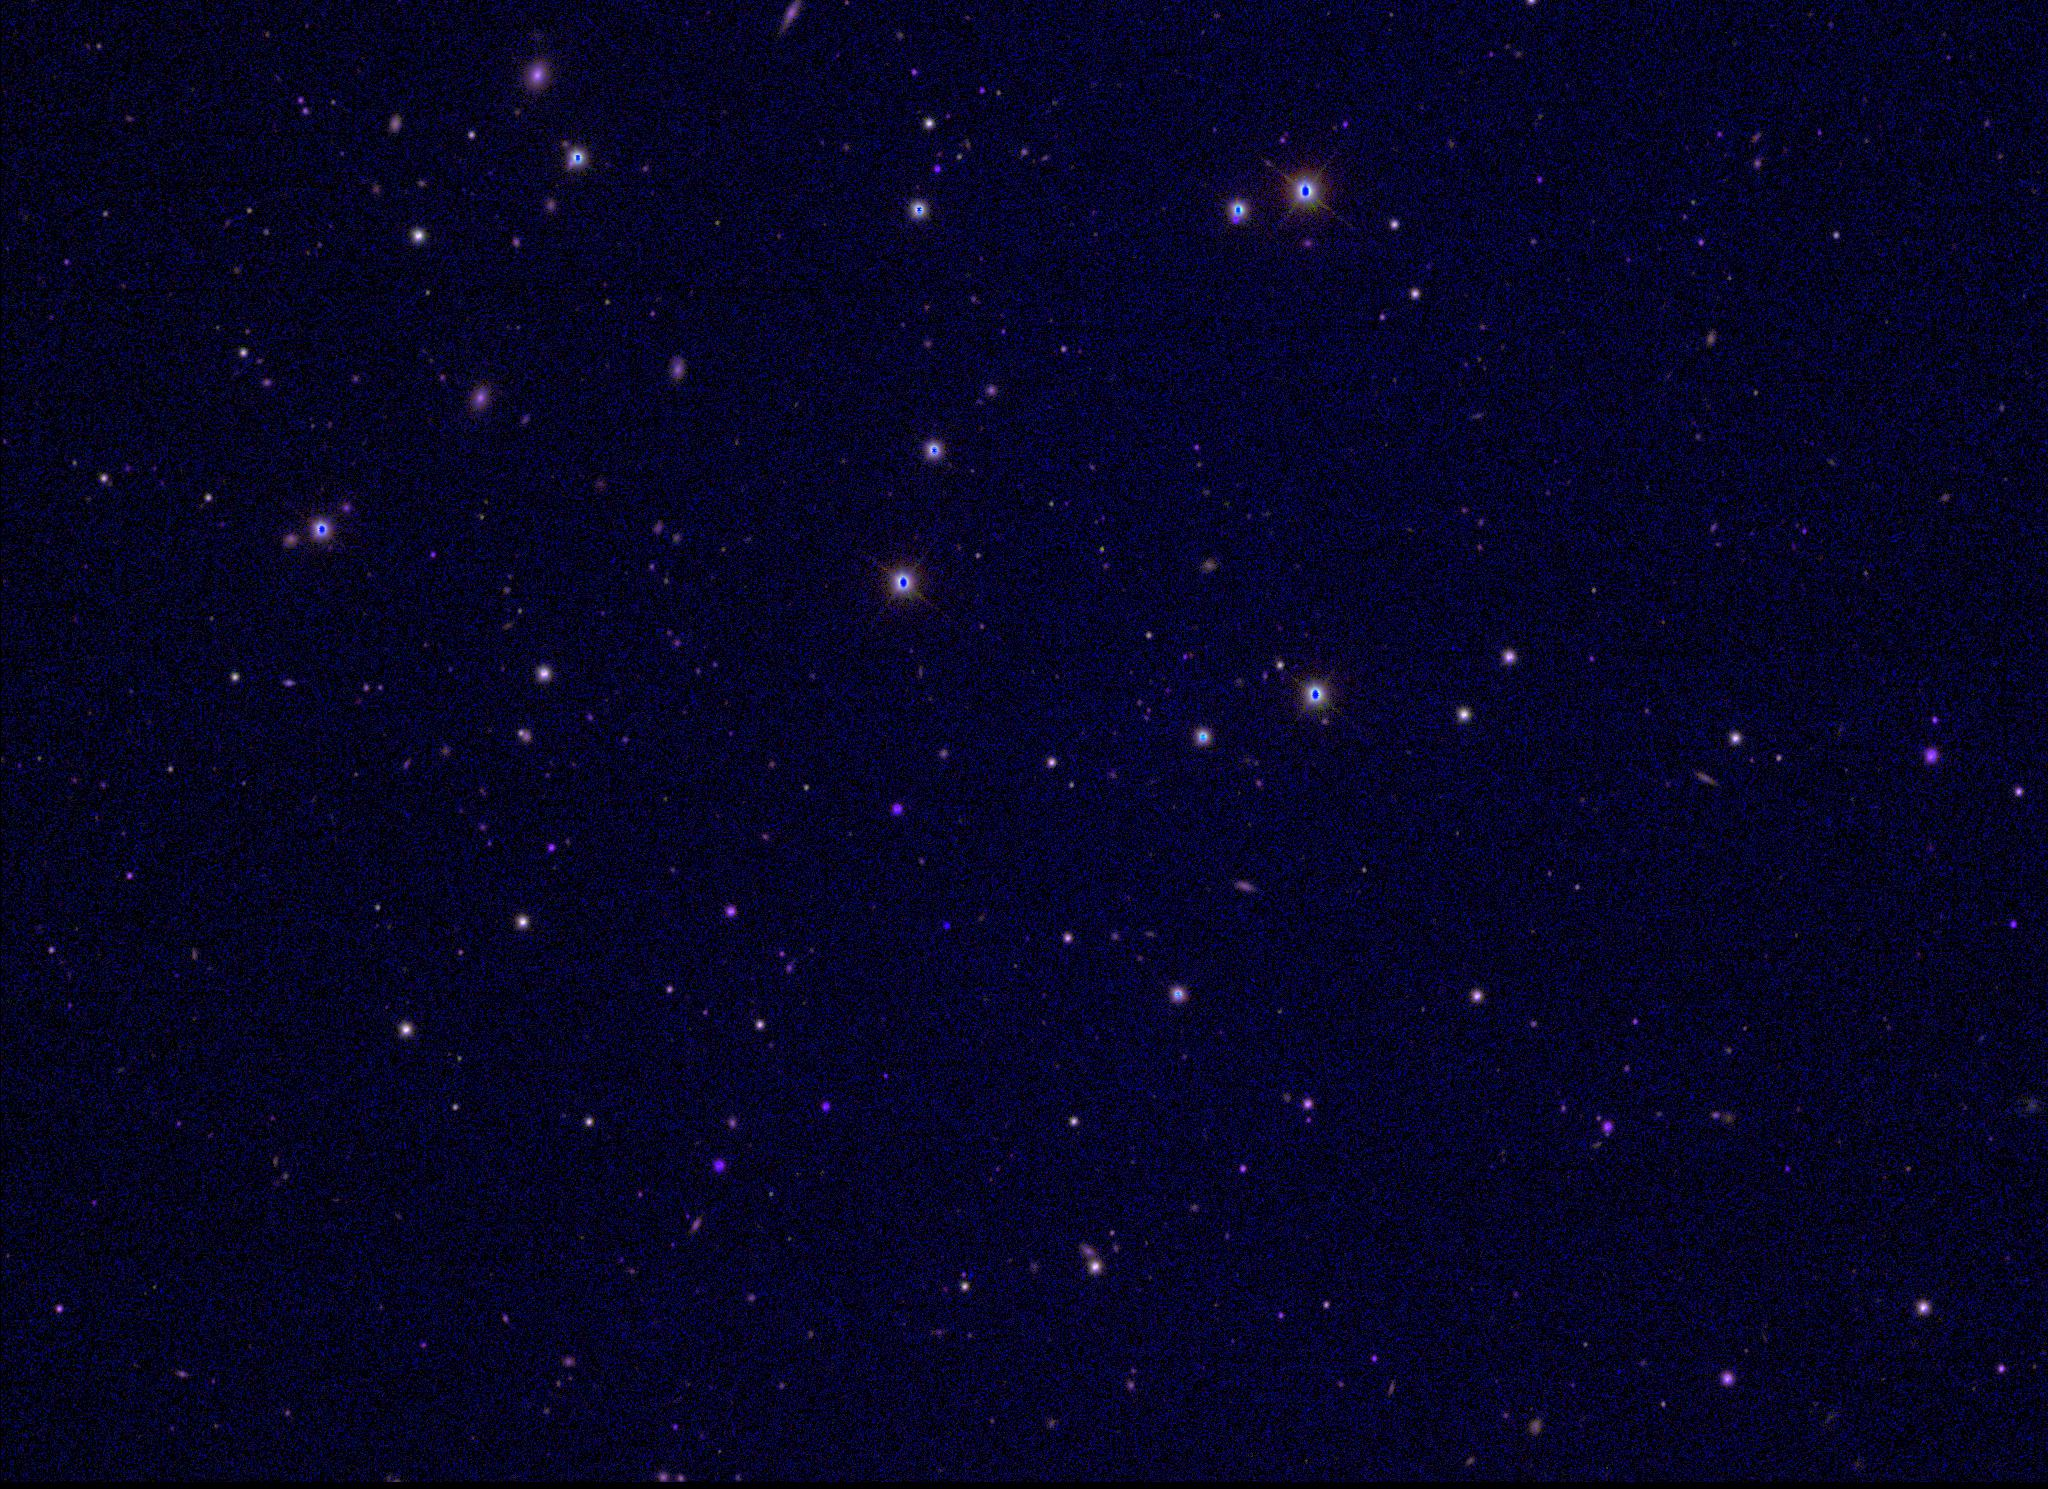L: (940, 919, 954, 932)
